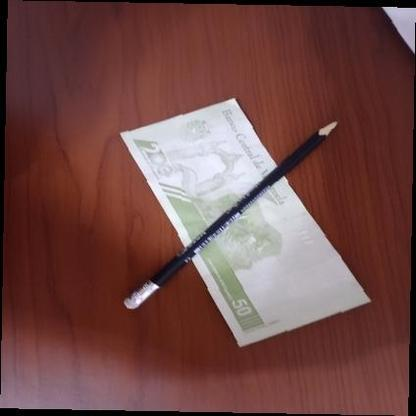fifty-back-vef: (117, 96, 372, 348)
